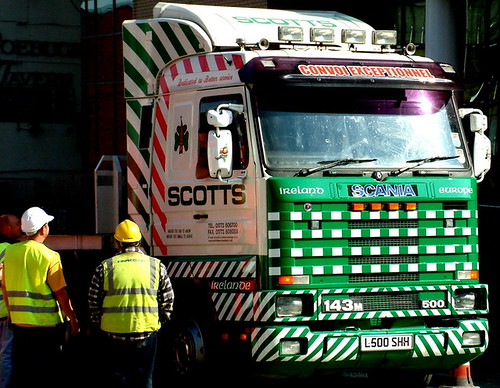person hardhat: (87, 219, 178, 386), (2, 206, 75, 381)
